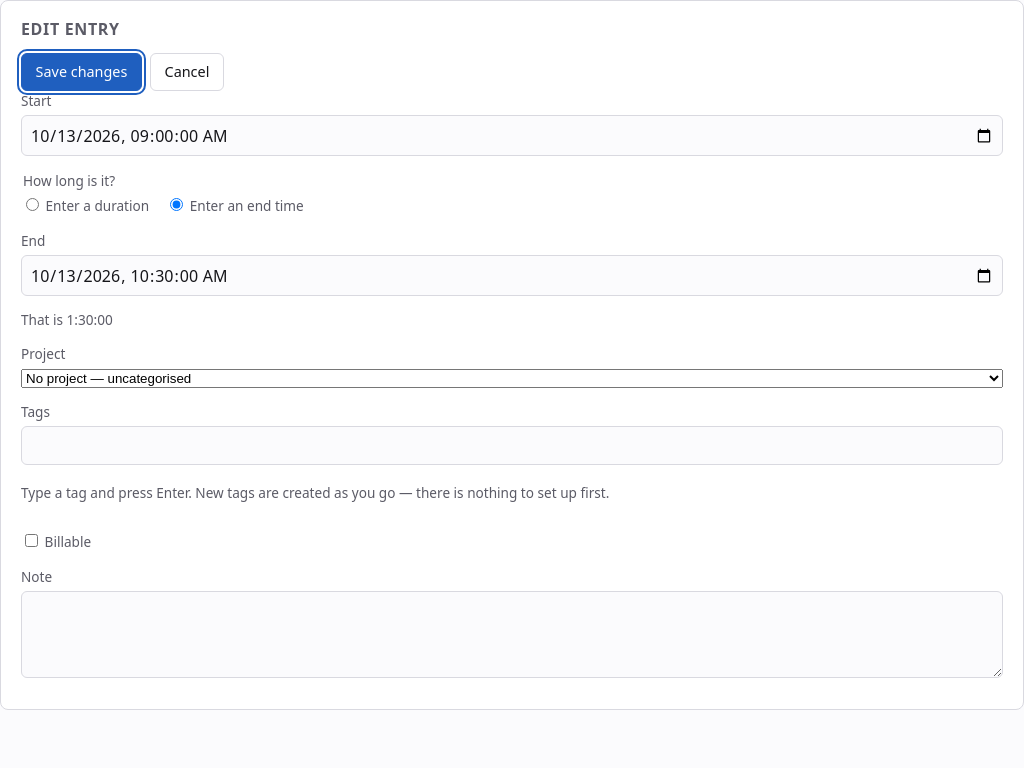
Test: duration in seconds (item 30) › keeps a whole-minute entry in the shorter form
Click the radio button labelled "Enter a duration" at (32, 204), box [26, 198, 39, 211]
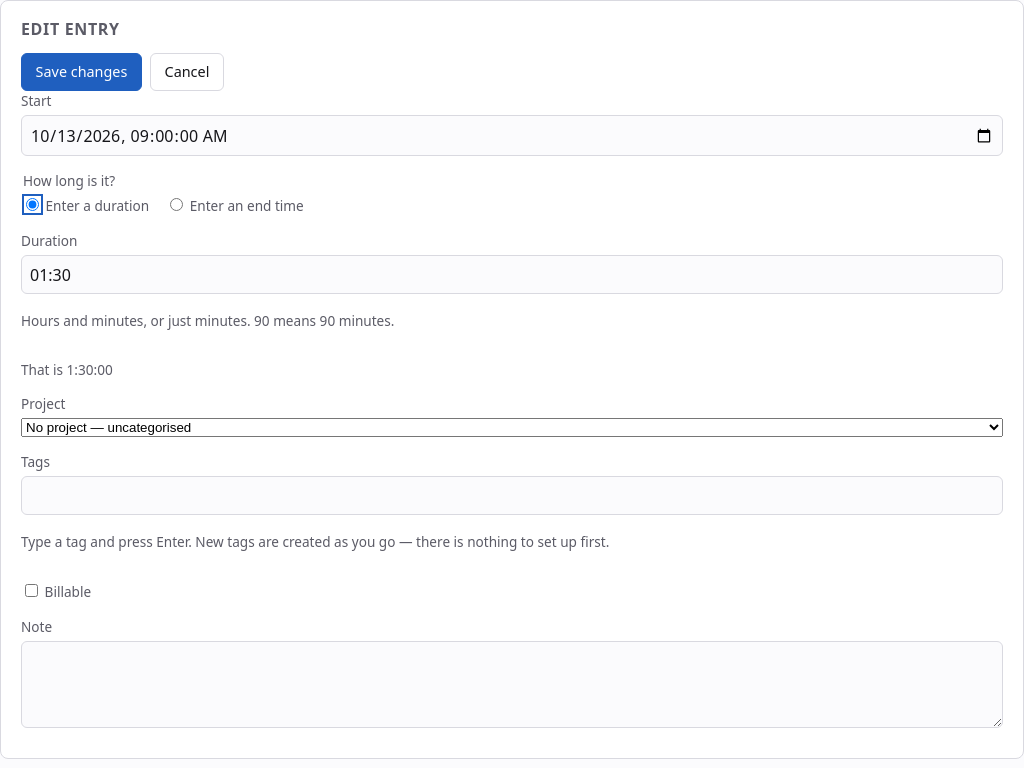
Expected: the field labelled "Duration" holds "01:30", [21, 255, 1003, 294]
